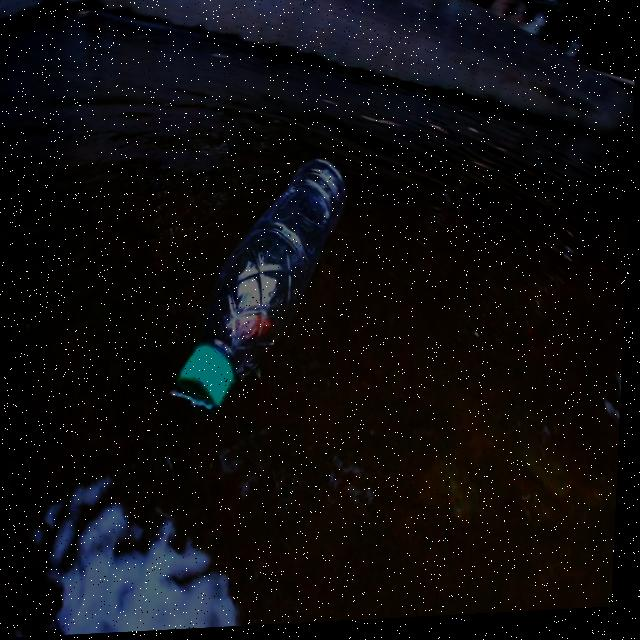waterbottle: (174, 156, 368, 426)
